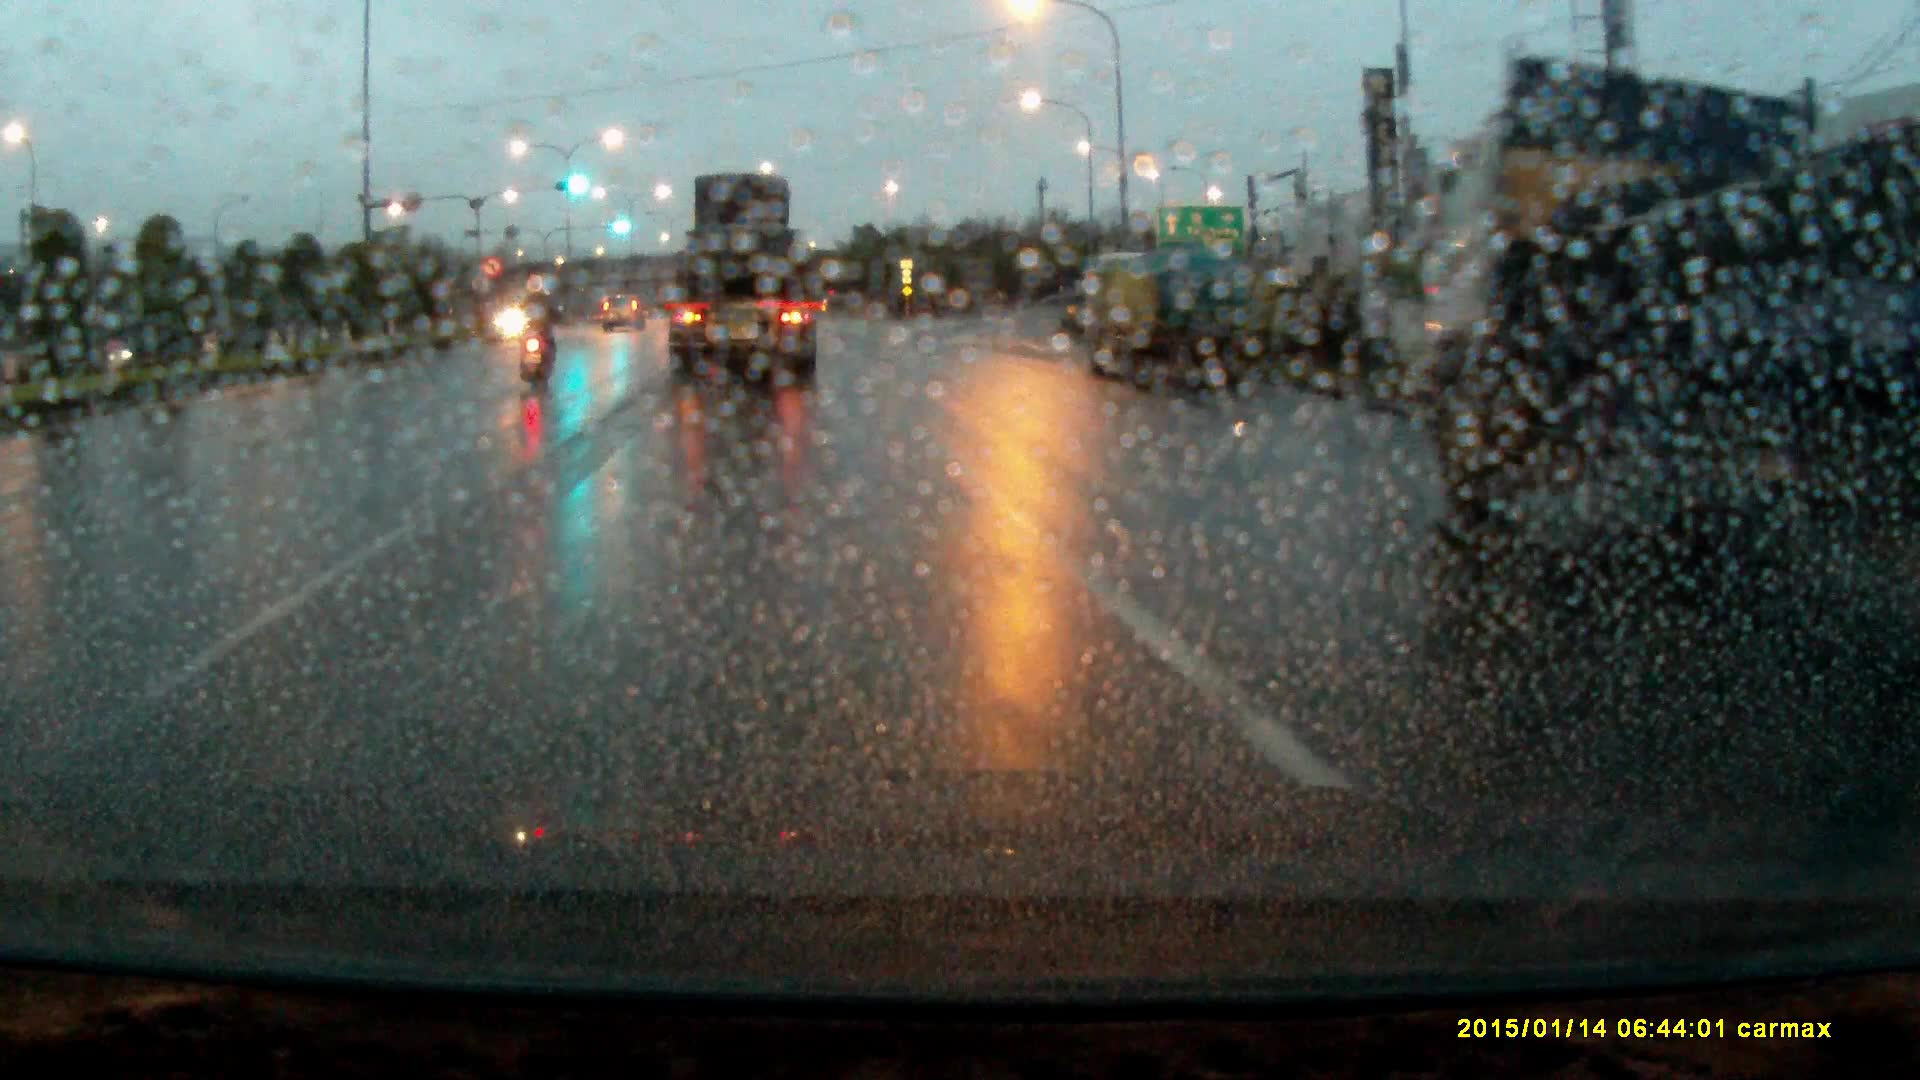rider: (515, 272, 569, 380)
vehicle: (1424, 52, 1920, 548), (662, 169, 822, 394), (1072, 253, 1265, 392), (602, 294, 647, 335)
